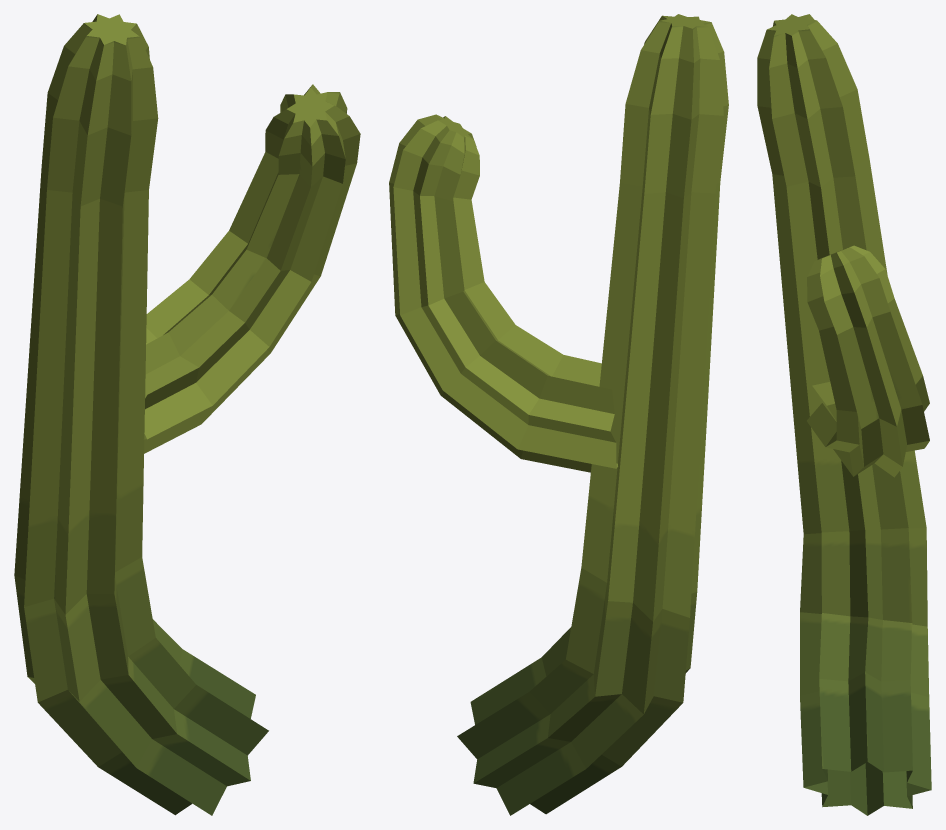
File: wallcactus_01.fbx
The picture shows the model from 3 angles, left to right: view 1: azimuth 30°, elevation 25°; view 2: azimuth 150°, elevation 25°; view 3: azimuth 270°, elevation 25°; orthographic projection. The views are drawn at different scales.
Visible parts, largest first — view 1: Cylinder.005; view 2: Cylinder.005; view 3: Cylinder.005.
Boxes of the visible parts, left/top/right/bottom form: Cylinder.005: left=14, top=14, right=360, bottom=815; Cylinder.005: left=389, top=14, right=728, bottom=815; Cylinder.005: left=757, top=14, right=931, bottom=815.
Bounding box in the file's own units: 298 × 744 × 157.
